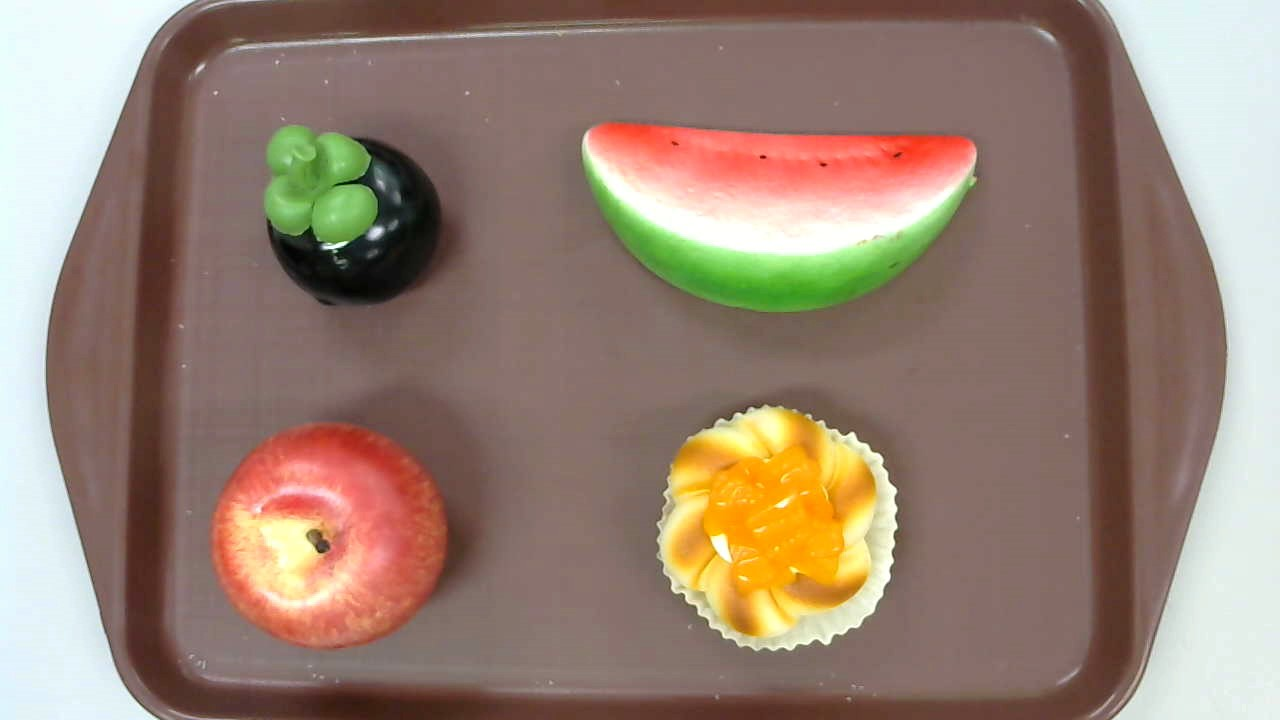mango tart: (654, 403, 899, 651)
mangosteen: (264, 124, 444, 308)
red apple: (210, 419, 451, 649)
water melon: (580, 122, 978, 313)
